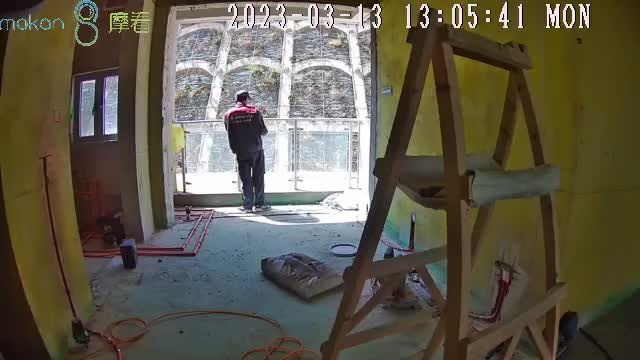people: (222, 91, 269, 213)
window: (170, 16, 367, 194)
